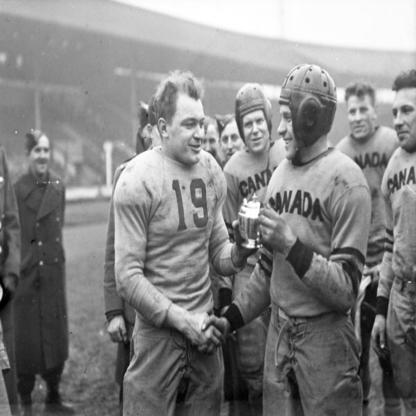Helmet: (271, 58, 350, 163), (234, 85, 279, 151)
